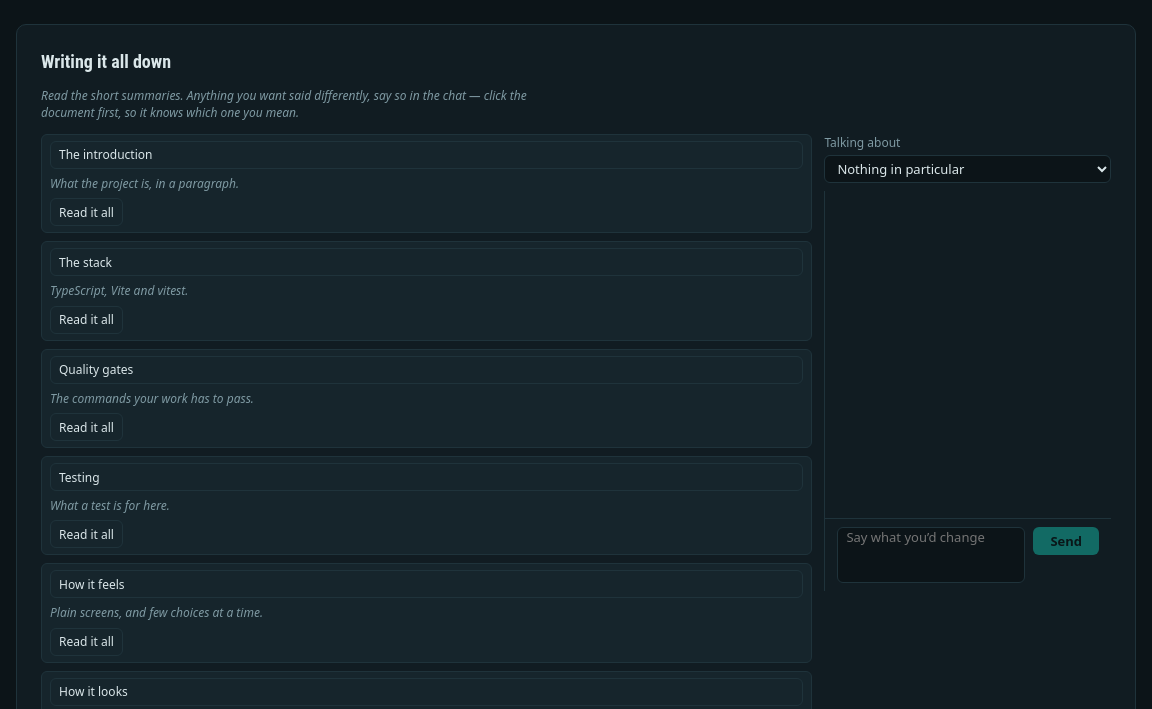
Test: the docs step › the résumé cards › opens the document itself, and the filename is on that view
Click the button "Read it all" below "The commands your work has to pass." at [86, 427], box [50,413,123,441]
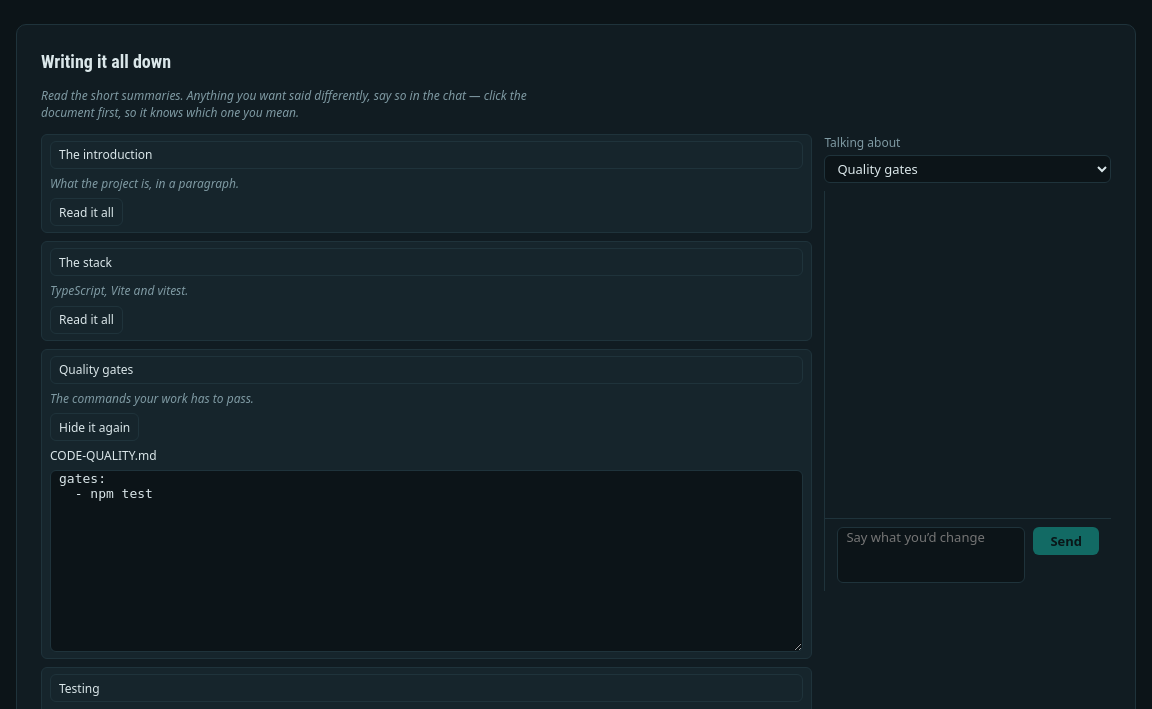
expect the text "CODE-QUALITY.md" is shown: met, box [50,447,157,464]
